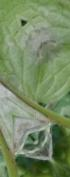Tomato leaf late blight: (0, 0, 70, 150)
